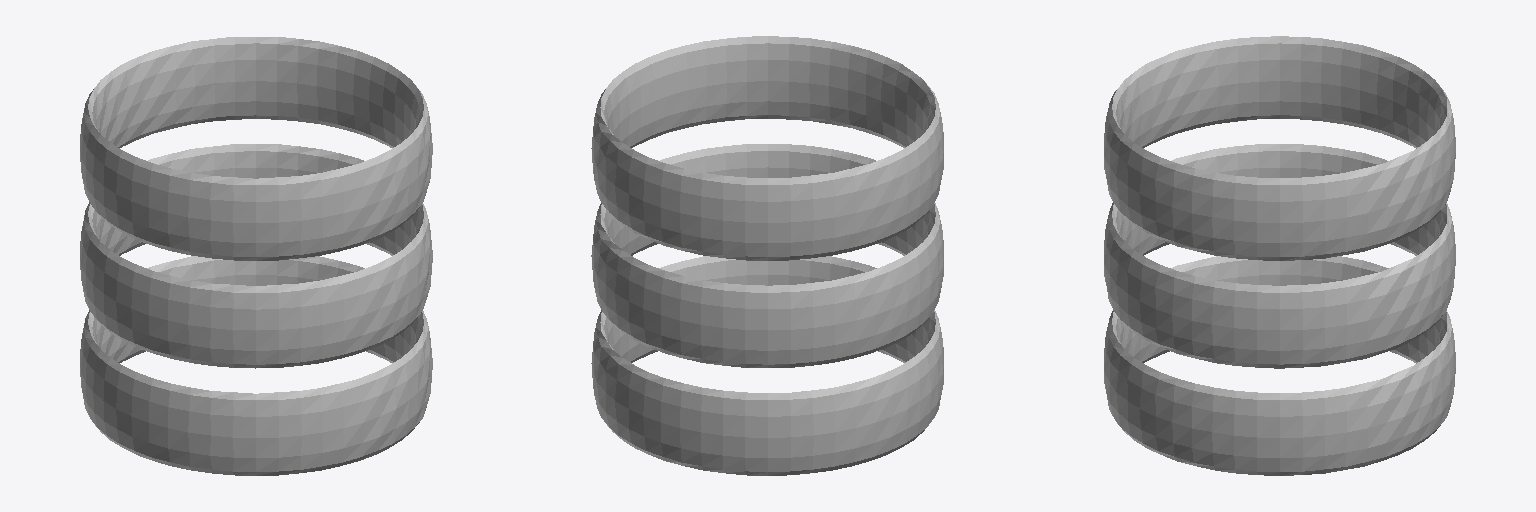
The model's file is checkpoint3.obj.
3 renders of one model, left to right at view 1: azimuth 30°, elevation 25°; view 2: azimuth 150°, elevation 25°; view 3: azimuth 270°, elevation 25°, orthographic.
Parts seen in each view (by area): view 1: Torus.002, Torus.001_Torus.004, Torus.000_Torus.003; view 2: Torus.002, Torus.001_Torus.004, Torus.000_Torus.003; view 3: Torus.002, Torus.001_Torus.004, Torus.000_Torus.003.
Part boxes in pixels (left/top/right/bottom): Torus.002: left=80, top=37, right=432, bottom=260; Torus.001_Torus.004: left=80, top=144, right=432, bottom=368; Torus.000_Torus.003: left=80, top=256, right=432, bottom=475; Torus.002: left=591, top=36, right=943, bottom=260; Torus.001_Torus.004: left=591, top=144, right=943, bottom=367; Torus.000_Torus.003: left=591, top=256, right=943, bottom=475; Torus.002: left=1104, top=36, right=1455, bottom=260; Torus.001_Torus.004: left=1104, top=144, right=1455, bottom=368; Torus.000_Torus.003: left=1104, top=256, right=1455, bottom=475.
Size of the model in its own units: 2.97 by 2.78 by 2.97.